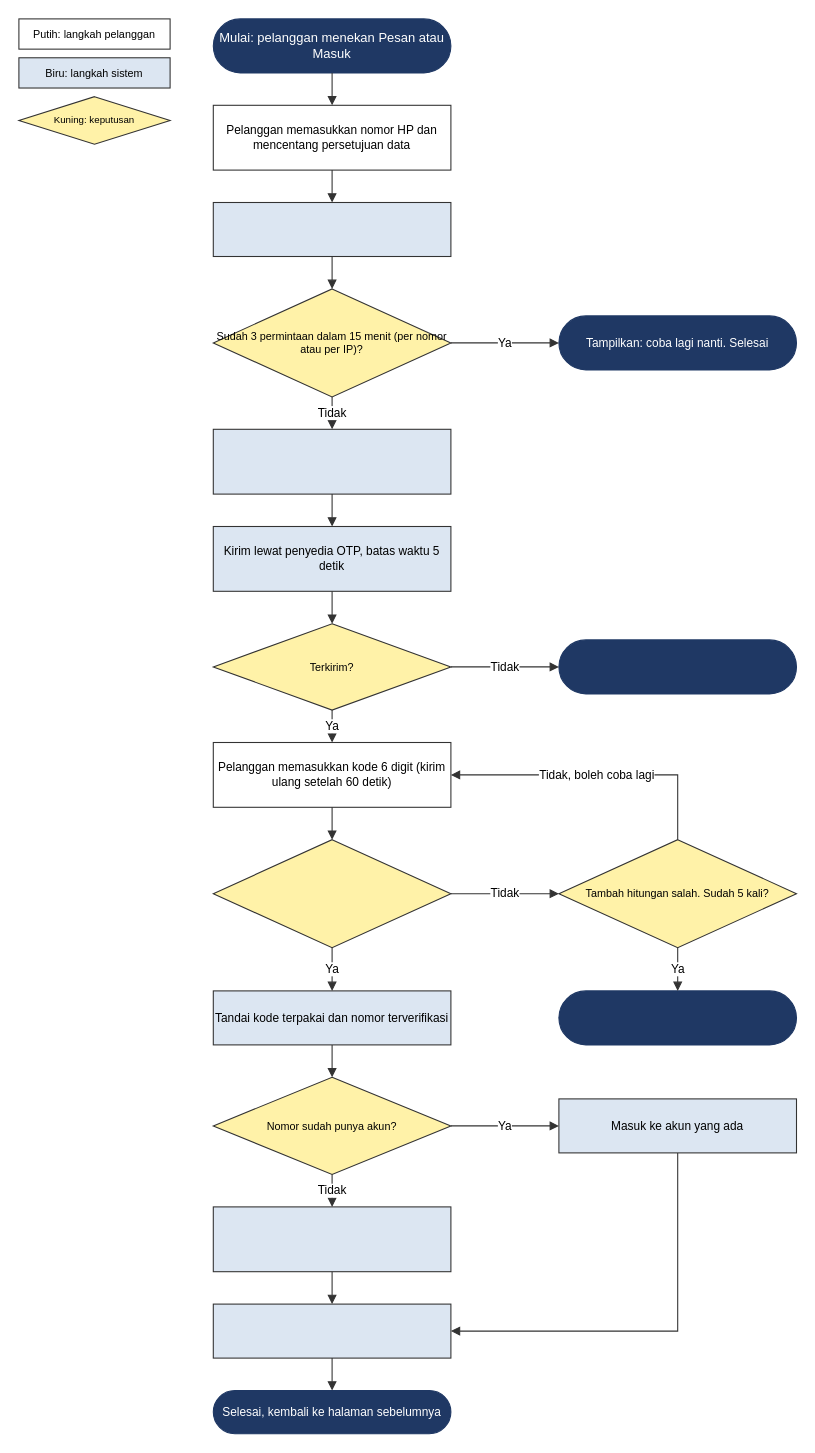
Image size: 815x1453. Some labels were removed from this diagram. Each missing label, with the centre of its shape:
Buat akun baru dan simpan persetujuan data (versi dan waktu): point 331,1239
Buat kode 6 digit, simpan hash-nya, berlaku 5 menit: point 331,461
Kode benar dan belum kedaluwarsa?: point 331,893
Kode hangus, minta kode baru. Selesai: point 677,1017
Mulai sesi pelanggan dan buat ulang ID sesi: point 331,1330
Sistem mengubah nomor ke format 628xx: point 331,228
Tampilkan: gagal kirim, coba lagi. Selesai: point 677,666
